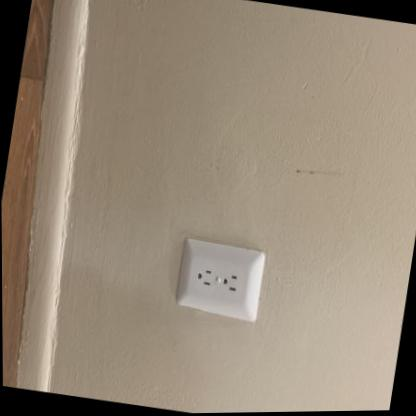OUTLET: (170, 234, 267, 326)
